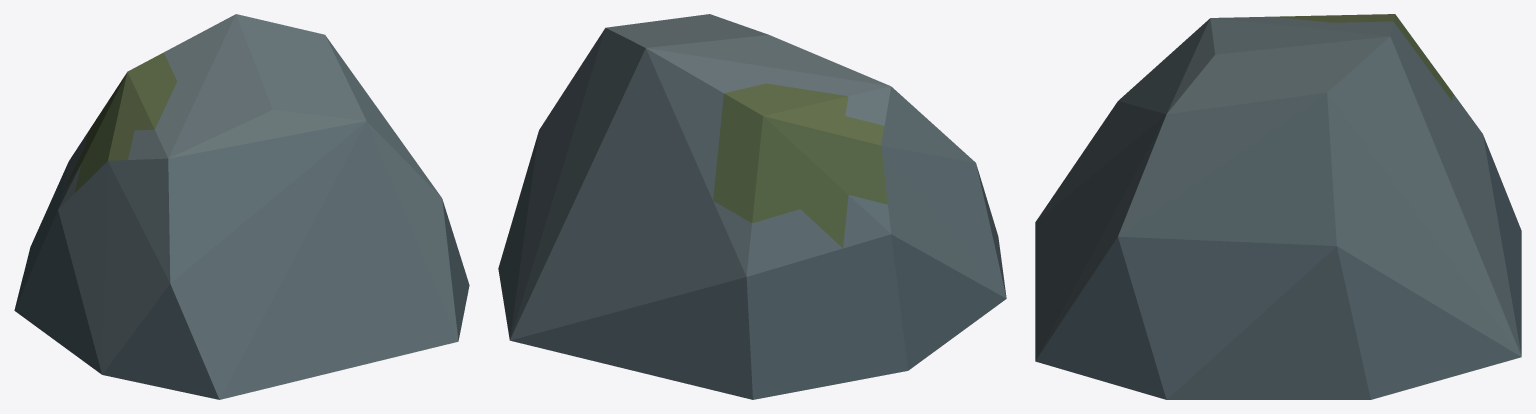
File: raw.glb
The picture shows the model from 3 angles, left to right: view 1: azimuth 30°, elevation 25°; view 2: azimuth 150°, elevation 25°; view 3: azimuth 270°, elevation 25°; orthographic projection. The views are drawn at different scales.
Parts seen in each view (by area): view 1: fen-bank-outcrop-right-v1; view 2: fen-bank-outcrop-right-v1; view 3: fen-bank-outcrop-right-v1.
Part boxes in pixels (x1,y1,x2,y2): fen-bank-outcrop-right-v1: (14, 14, 469, 399); fen-bank-outcrop-right-v1: (498, 14, 1006, 399); fen-bank-outcrop-right-v1: (1035, 14, 1521, 399).
Size of the model in its own units: 2.6 by 1.6 by 2.5.
1 material, 1 textured.
